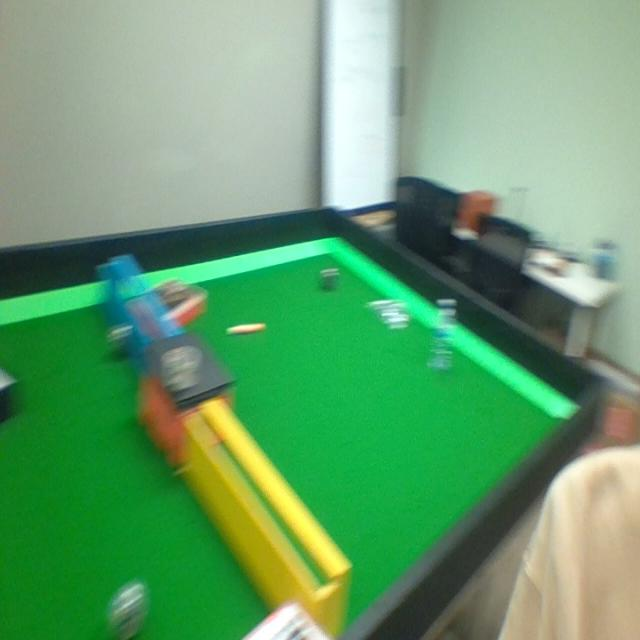black-chair: (386, 172, 460, 284), (466, 207, 528, 322)
